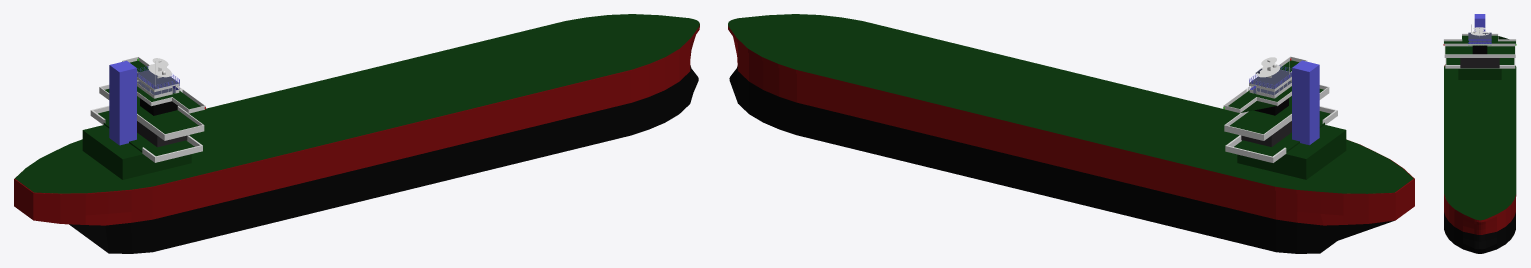
The model's file is ship.fbx.
The picture shows the model from 3 angles, left to right: view 1: azimuth 30°, elevation 25°; view 2: azimuth 150°, elevation 25°; view 3: azimuth 270°, elevation 25°; orthographic projection. The views are drawn at different scales.
Parts seen in each view (by area): view 1: 立方体, upperDeck, accomodation1, funnel, middleDeck, middleDeck.002, boatDeck.001, boatDeck, bridgeDeck, accomodation2, 平面; view 2: 立方体, upperDeck, accomodation1, funnel, middleDeck, boatDeck, boatDeck.001, bridgeDeck, middleDeck.002, 平面, accomodation2; view 3: upperDeck, 立方体, accomodation1, middleDeck, accomodation2, middleDeck.002, bridgeDeck, boatDeck, boatDeck.001, 平面.002, funnel, accomodation3 (+5 smaller).
Part boxes in pixels (<box>): 立方体: <box>14,35,698,253</box>; upperDeck: <box>15,14,699,193</box>; accomodation1: <box>82,125,191,179</box>; funnel: <box>109,60,136,145</box>; middleDeck: <box>104,89,198,133</box>; middleDeck.002: <box>99,84,204,140</box>; boatDeck.001: <box>90,105,202,162</box>; boatDeck: <box>98,111,193,156</box>; bridgeDeck: <box>130,60,200,109</box>; accomodation2: <box>137,121,189,147</box>; 平面: <box>137,70,178,89</box>; 立方体: <box>729,37,1414,253</box>; upperDeck: <box>728,14,1413,197</box>; accomodation1: <box>1237,125,1346,179</box>; funnel: <box>1292,60,1319,145</box>; middleDeck: <box>1230,89,1323,134</box>; boatDeck: <box>1234,111,1330,156</box>; boatDeck.001: <box>1225,106,1337,162</box>; bridgeDeck: <box>1228,60,1298,112</box>; middleDeck.002: <box>1224,84,1329,140</box>; 平面: <box>1250,70,1291,89</box>; accomodation2: <box>1241,121,1291,146</box>; upperDeck: <box>1444,65,1516,222</box>; 立方体: <box>1444,64,1515,253</box>; accomodation1: <box>1458,68,1501,79</box>; middleDeck: <box>1445,46,1514,54</box>; accomodation2: <box>1460,58,1499,68</box>; middleDeck.002: <box>1444,45,1515,57</box>; bridgeDeck: <box>1444,35,1515,45</box>; boatDeck: <box>1446,58,1514,64</box>; boatDeck.001: <box>1445,58,1515,68</box>; 平面.002: <box>1444,43,1515,45</box>; funnel: <box>1474,14,1485,31</box>; accomodation3: <box>1472,45,1487,54</box>.
Size of the model in its own units: 21642 by 5249 by 3738.
